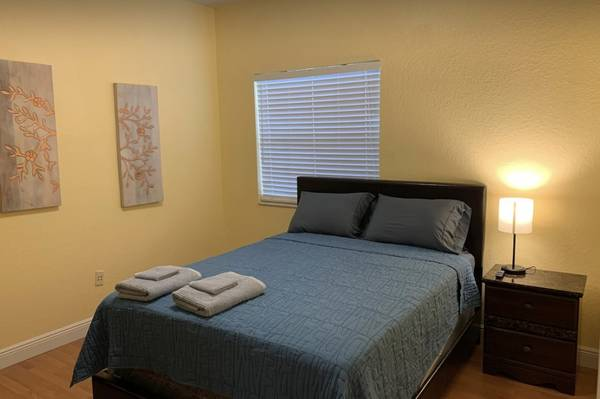bed: (98, 179, 486, 399)
lamp: (491, 198, 538, 275)
night stand: (483, 265, 590, 396)
